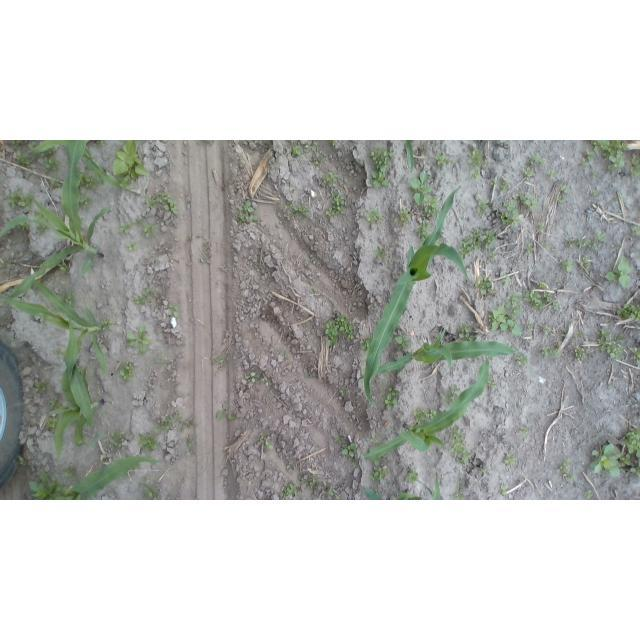Maize: (367, 185, 471, 401), (2, 140, 113, 298), (2, 281, 114, 426), (365, 358, 490, 455), (350, 327, 518, 388), (27, 140, 141, 196), (52, 367, 106, 461), (71, 458, 157, 500), (414, 474, 443, 500), (402, 140, 414, 170), (360, 488, 385, 501), (394, 493, 420, 500)
Weeds: (581, 141, 640, 180), (111, 140, 147, 178), (29, 470, 74, 500), (590, 443, 622, 478), (523, 280, 558, 312), (370, 150, 397, 191), (301, 474, 343, 500), (488, 305, 521, 337), (326, 310, 355, 346), (604, 255, 632, 290), (449, 426, 476, 462), (458, 229, 495, 255), (620, 427, 640, 475), (566, 229, 607, 252), (598, 327, 625, 361), (500, 199, 526, 230), (412, 171, 433, 207), (146, 191, 179, 213), (127, 325, 150, 356), (155, 409, 179, 435), (237, 199, 258, 225), (7, 190, 34, 210), (325, 192, 347, 216), (368, 459, 392, 481), (285, 200, 310, 221), (525, 152, 545, 178), (241, 370, 271, 387), (15, 149, 38, 169), (140, 475, 159, 499), (383, 386, 401, 411), (506, 292, 524, 317), (615, 303, 640, 321), (364, 204, 384, 225), (415, 408, 441, 424), (280, 481, 301, 500), (474, 274, 493, 295), (394, 334, 416, 352), (518, 191, 540, 209), (560, 459, 577, 482), (395, 205, 412, 226), (109, 429, 125, 451), (455, 468, 466, 500), (425, 195, 440, 217), (133, 287, 151, 305), (140, 433, 158, 450), (323, 170, 340, 188), (120, 361, 136, 379), (435, 153, 453, 169), (474, 198, 490, 216), (571, 346, 589, 362), (469, 149, 484, 168), (43, 158, 61, 173), (342, 442, 360, 457), (302, 141, 322, 154), (458, 323, 474, 339), (81, 172, 96, 189), (217, 408, 238, 420), (259, 434, 274, 450), (35, 380, 52, 394), (560, 258, 577, 272), (448, 385, 461, 403), (417, 220, 429, 239), (498, 177, 510, 195), (167, 304, 181, 319), (119, 222, 133, 237), (541, 323, 556, 337), (551, 340, 562, 359), (376, 244, 389, 260), (406, 470, 420, 484), (630, 345, 640, 364), (46, 417, 59, 431), (290, 145, 302, 160), (284, 459, 296, 474), (145, 222, 156, 238), (182, 416, 196, 428), (198, 251, 210, 265), (308, 154, 322, 166), (504, 451, 516, 465), (279, 347, 292, 359), (48, 396, 61, 408), (579, 256, 591, 269), (121, 176, 135, 187), (517, 355, 531, 366), (187, 436, 195, 455), (79, 194, 91, 206), (154, 357, 172, 365), (338, 386, 350, 398), (59, 264, 73, 274), (50, 178, 61, 190), (499, 483, 511, 494), (471, 169, 482, 181), (517, 426, 529, 437), (539, 346, 550, 358), (64, 467, 77, 477), (35, 223, 48, 233), (66, 290, 75, 304), (101, 318, 111, 330), (546, 170, 556, 181), (125, 242, 138, 250), (361, 338, 369, 351), (9, 141, 29, 146), (371, 434, 381, 444), (615, 333, 625, 343), (524, 243, 534, 253), (216, 357, 227, 366), (18, 457, 27, 468), (352, 460, 363, 469), (487, 253, 498, 262), (631, 224, 640, 235), (555, 278, 564, 289), (487, 380, 498, 389), (479, 465, 489, 474), (502, 275, 510, 286), (134, 217, 142, 228), (336, 436, 345, 445), (560, 185, 570, 193), (54, 348, 62, 357), (327, 141, 337, 148), (585, 491, 594, 498), (592, 188, 599, 197), (21, 223, 30, 230), (310, 285, 318, 292), (96, 141, 104, 148), (557, 195, 564, 203), (528, 323, 535, 330), (28, 144, 36, 149), (204, 141, 217, 144), (537, 221, 544, 226), (78, 367, 84, 372), (493, 179, 496, 186), (376, 490, 381, 494)
